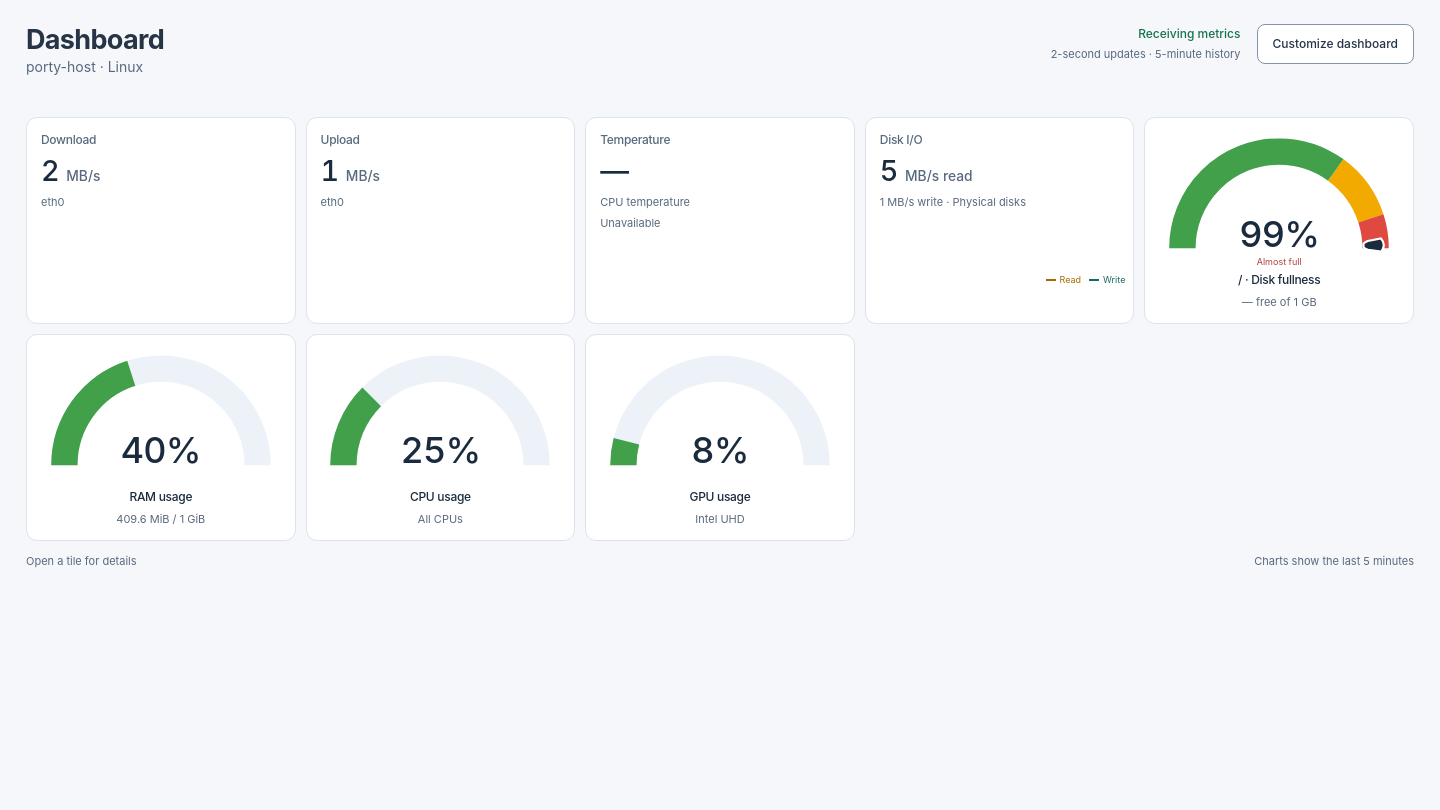
Scenario: explains missing temperature sensors in the tile details without a technical coverage list
Expected: the text "Unavailable" is shown, 600,216 -> 660,230
Click the button named "Temperature details".
click(720, 221)  # box 586,118 -> 854,323
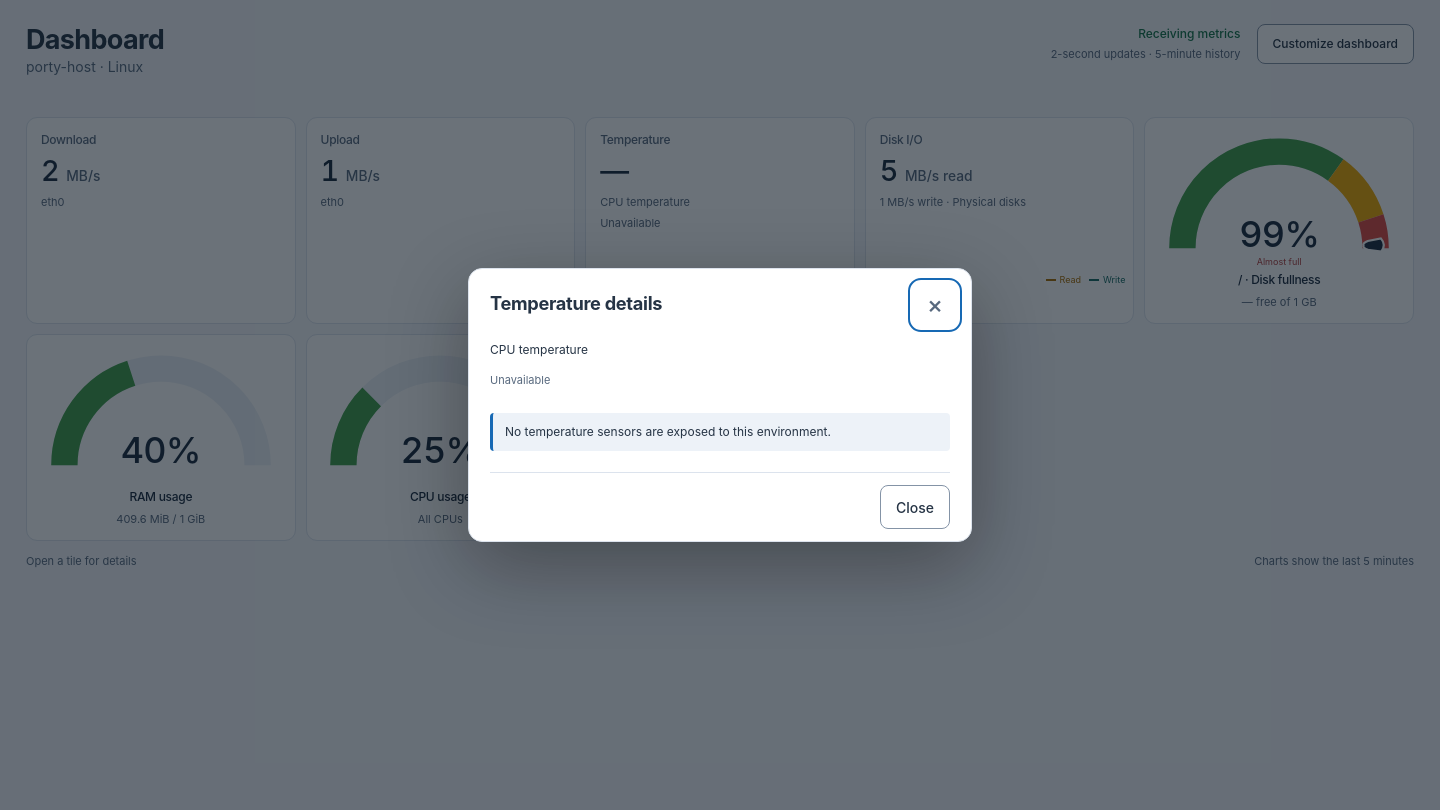
Expected: the text "No temperature sensors are exposed to this environment." is shown, 505,424 -> 831,439
